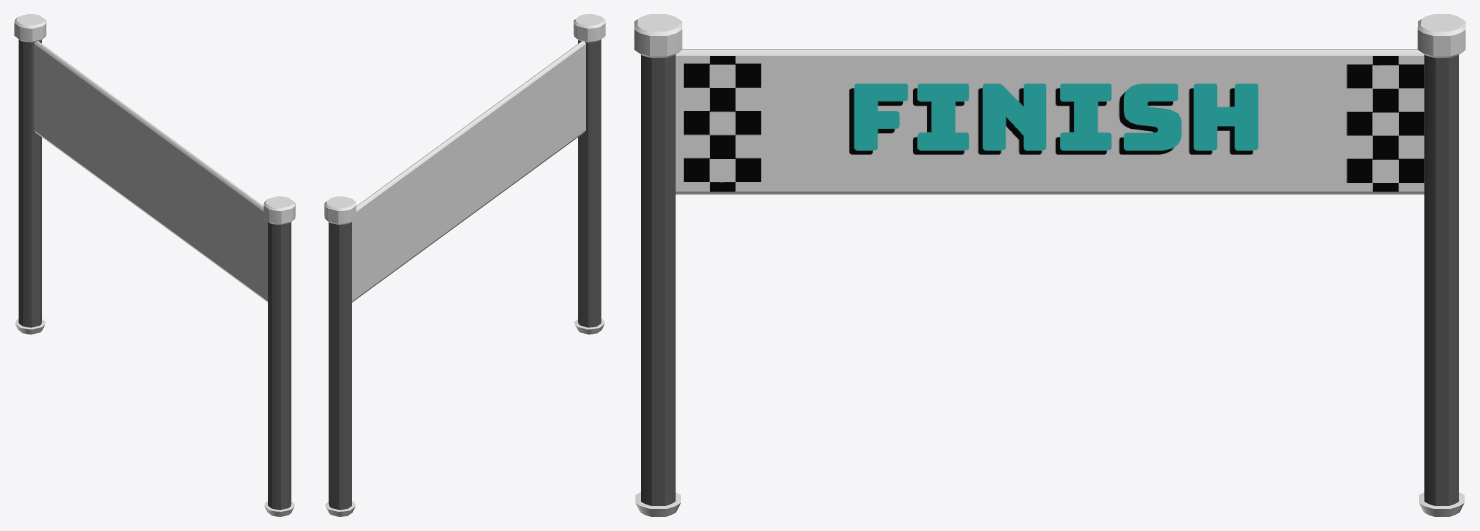
File: Pizza Finish.fbx
3 views of the same model, side by side, from view 1: azimuth 30°, elevation 25°; view 2: azimuth 150°, elevation 25°; view 3: azimuth 270°, elevation 25° (orthographic). The views are drawn at different scales.
Visible parts, largest first — view 1: pCube3, pCube1, pCube4; view 2: pCube3, pCube4, pCube1; view 3: pCube3, pCube4, pCube1.
Part boxes in pixels (left/top/right/bottom): pCube3: left=34, top=41, right=267, bottom=302; pCube1: left=263, top=196, right=295, bottom=516; pCube4: left=14, top=14, right=46, bottom=334; pCube3: left=352, top=41, right=585, bottom=302; pCube4: left=324, top=196, right=356, bottom=516; pCube1: left=573, top=14, right=605, bottom=334; pCube3: left=675, top=49, right=1424, bottom=194; pCube4: left=1417, top=14, right=1465, bottom=516; pCube1: left=634, top=14, right=682, bottom=516.
Size of the model in its own units: 0.3414 by 3.8 by 5.89.
Materials: 6 (1 with a texture image).
